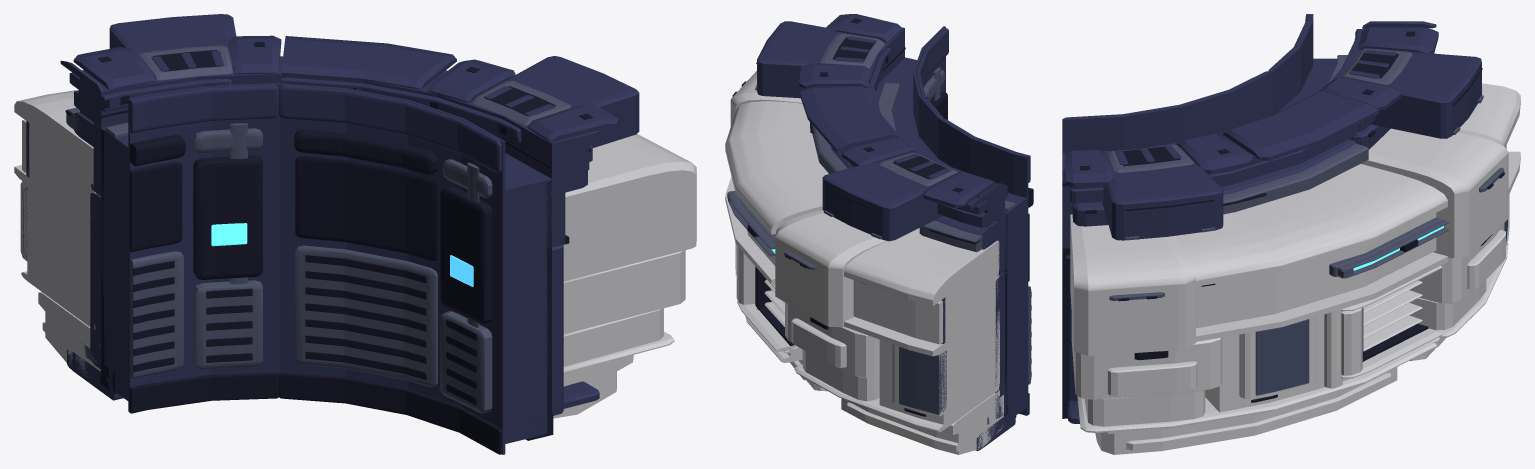
The model's file is hull.arc1.c.glb.
The picture shows the model from 3 angles, left to right: view 1: azimuth 30°, elevation 25°; view 2: azimuth 150°, elevation 25°; view 3: azimuth 270°, elevation 25°; orthographic projection. The views are drawn at different scales.
Parts seen in each view (by area): view 1: GEO-hull.arc1.c; view 2: GEO-hull.arc1.c; view 3: GEO-hull.arc1.c.
Boxes of the visible parts, x1=… form: GEO-hull.arc1.c: x1=14, y1=14, x2=696, y2=454; GEO-hull.arc1.c: x1=725, y1=14, x2=1033, y2=454; GEO-hull.arc1.c: x1=1062, y1=14, x2=1520, y2=454.
Bounding box in the file's own units: 1.5 × 1 × 1.46.
